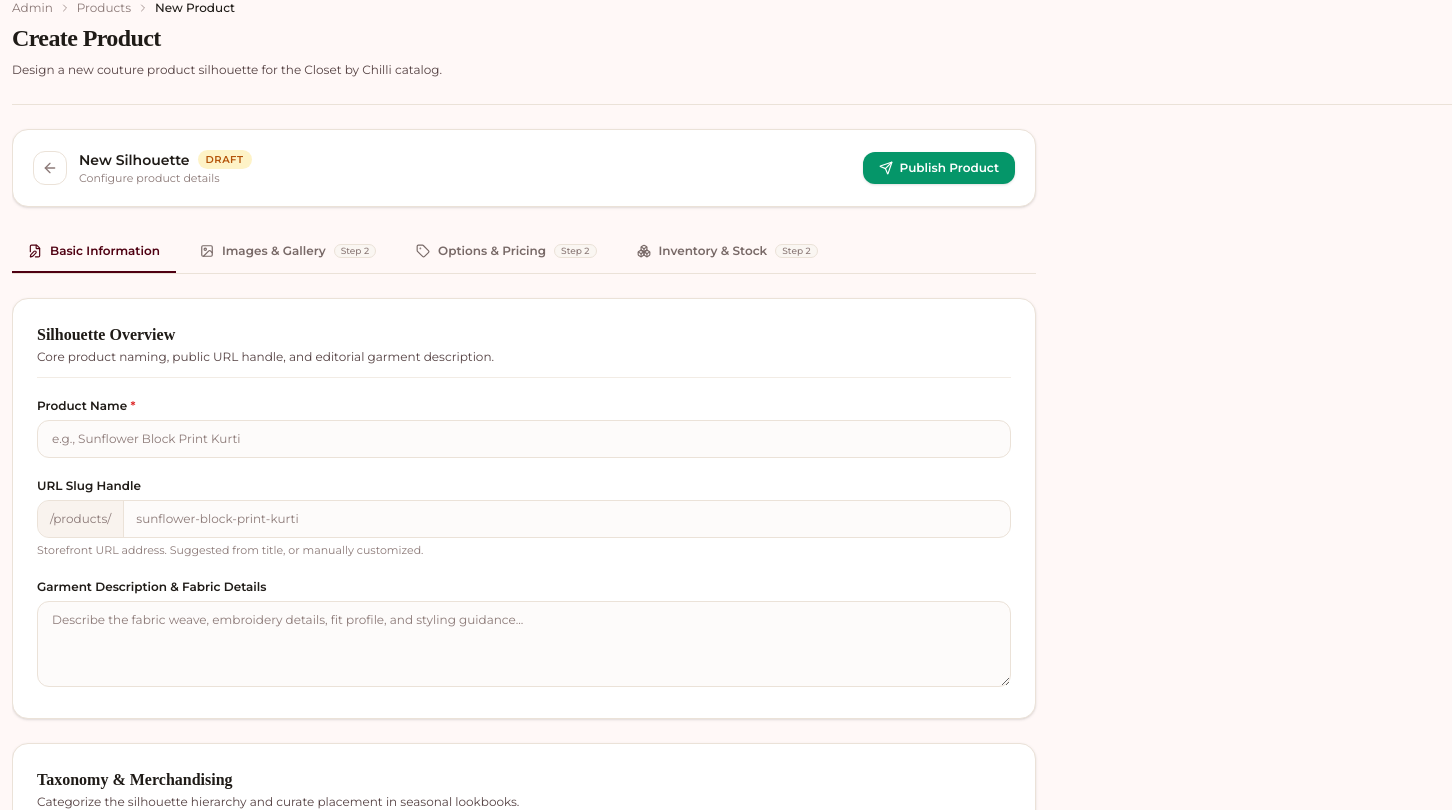
Test: Admin Product Create Flow › displays field-level validation errors from the API
In the field labelled "Product Name *": [524, 439] box [37,420,1011,458], type "Duplicate Product"
(page scrolled)
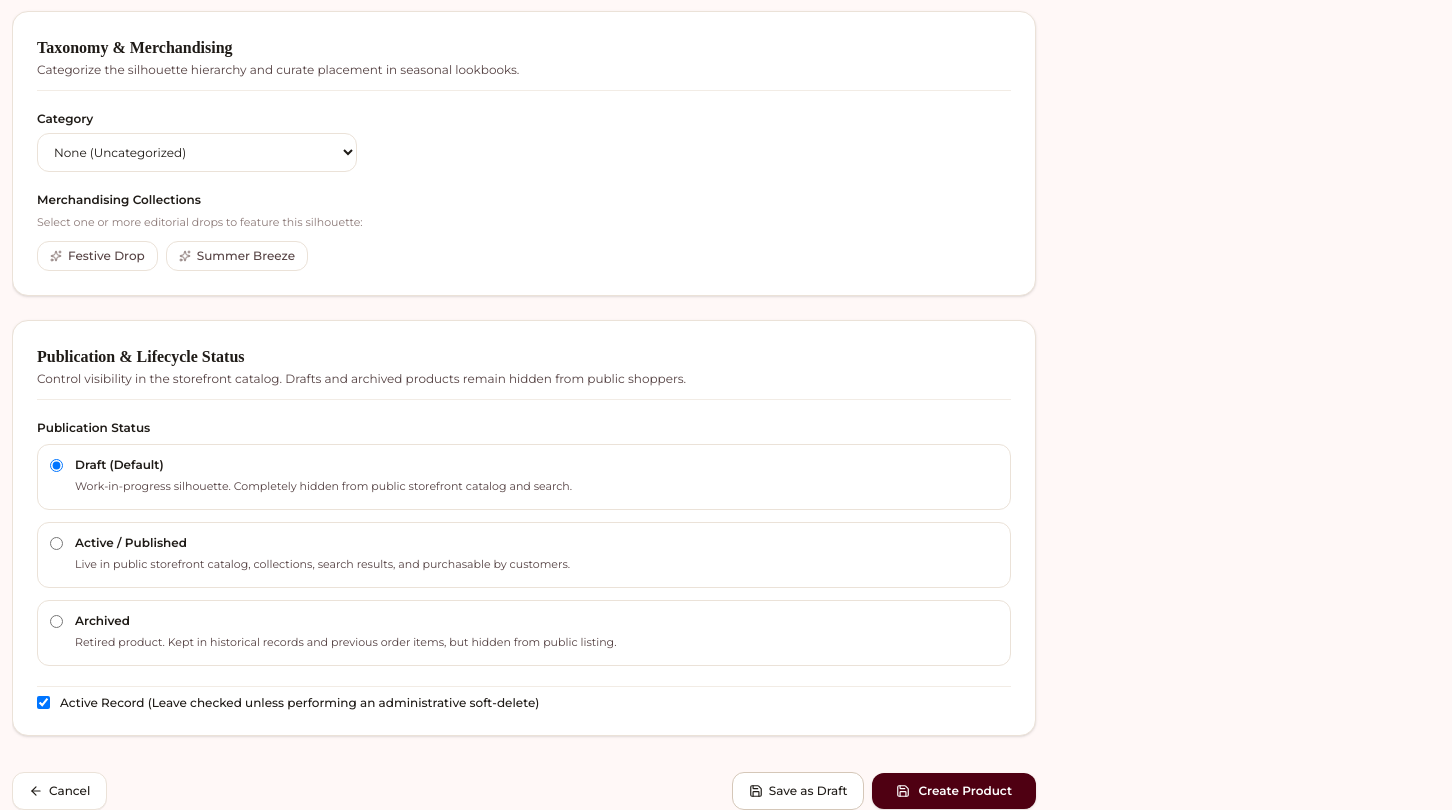
Click the button "Create Product": [954, 790] box [872,772,1036,808]
(page scrolled)
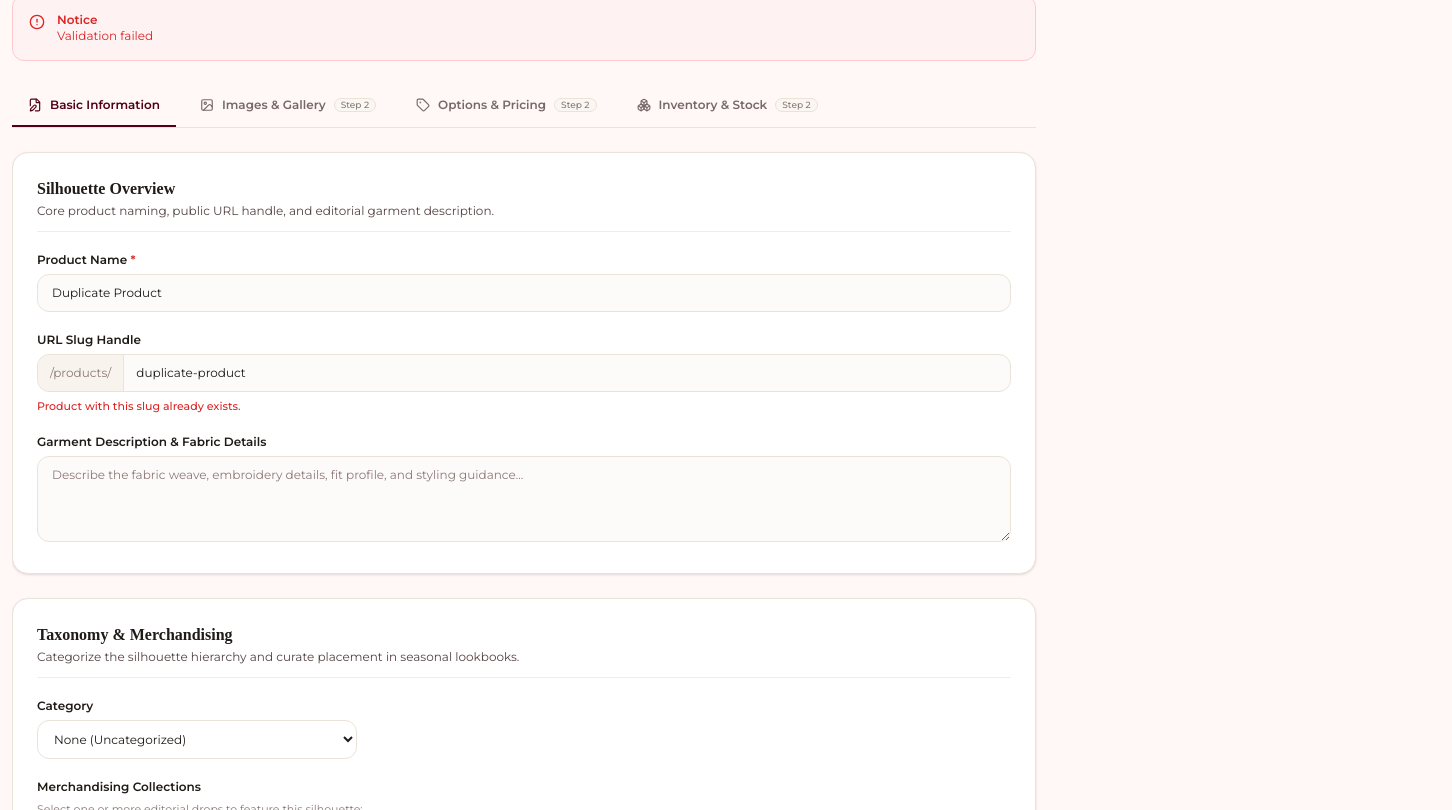
Now the text "Product with this slug already exists." is shown, box [37,398,240,412]
